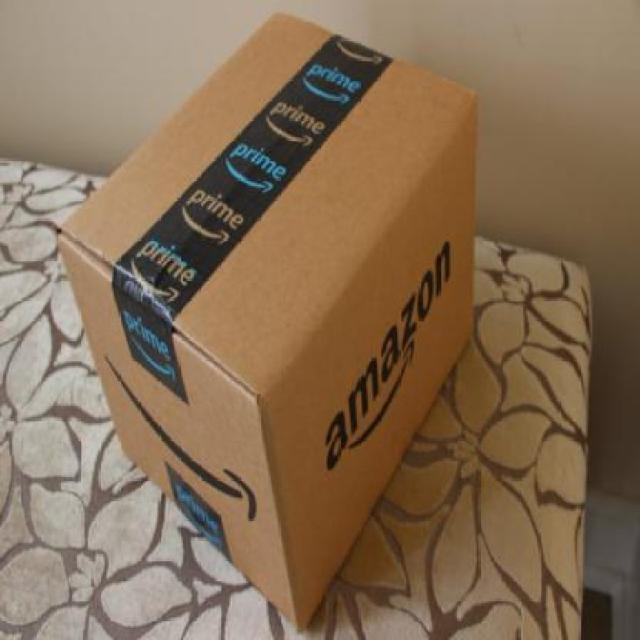obstacle: (55, 3, 482, 639)
